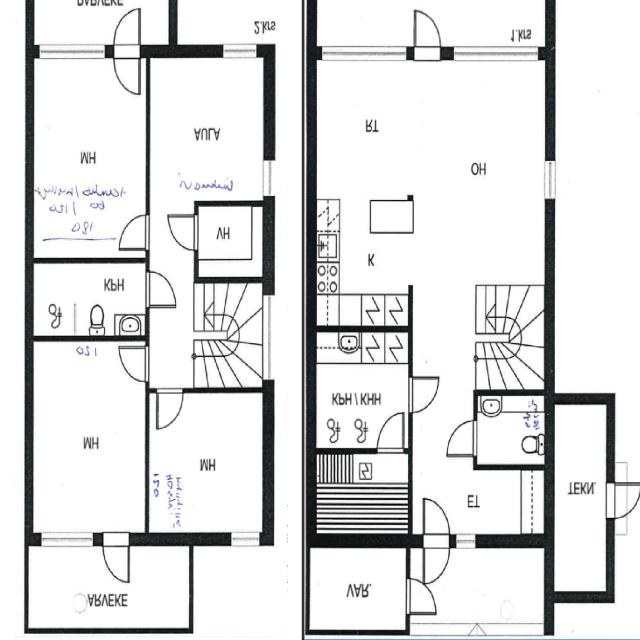door: (412, 7, 441, 61), (102, 532, 129, 581), (424, 498, 450, 548), (424, 534, 450, 583), (114, 9, 140, 58), (114, 45, 140, 93), (376, 410, 404, 454), (408, 375, 441, 412), (607, 482, 640, 518), (446, 419, 478, 456), (119, 346, 150, 382), (406, 578, 437, 613), (146, 278, 176, 313), (120, 214, 150, 249), (169, 214, 199, 249), (158, 388, 183, 428)
